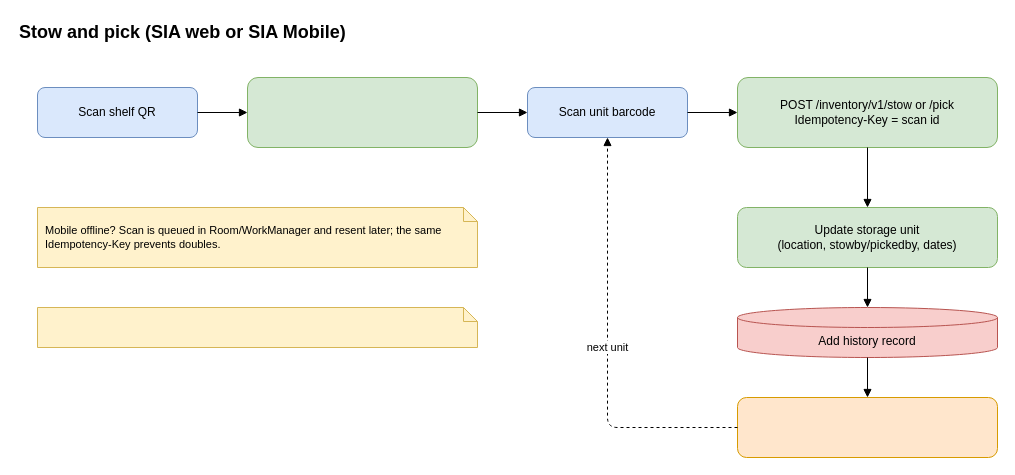
Image size: 1015x475. Some labels were removed from this diagram. The shapes that lost their labels are listed below. From the top down, each one's box as (x1, y1, x2, y2) in pixels, then its label:
(246, 76, 478, 148): GET /inventory/v1/shelves/{barcode} shelf valid?
(36, 306, 478, 348): Picking for a request: the unit must be reserved for that orderId.
(736, 396, 998, 458): Publish unit.stowed / unit.picked + stock.changed
